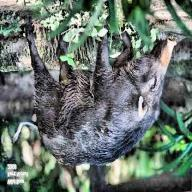boar: (37, 33, 180, 171)
